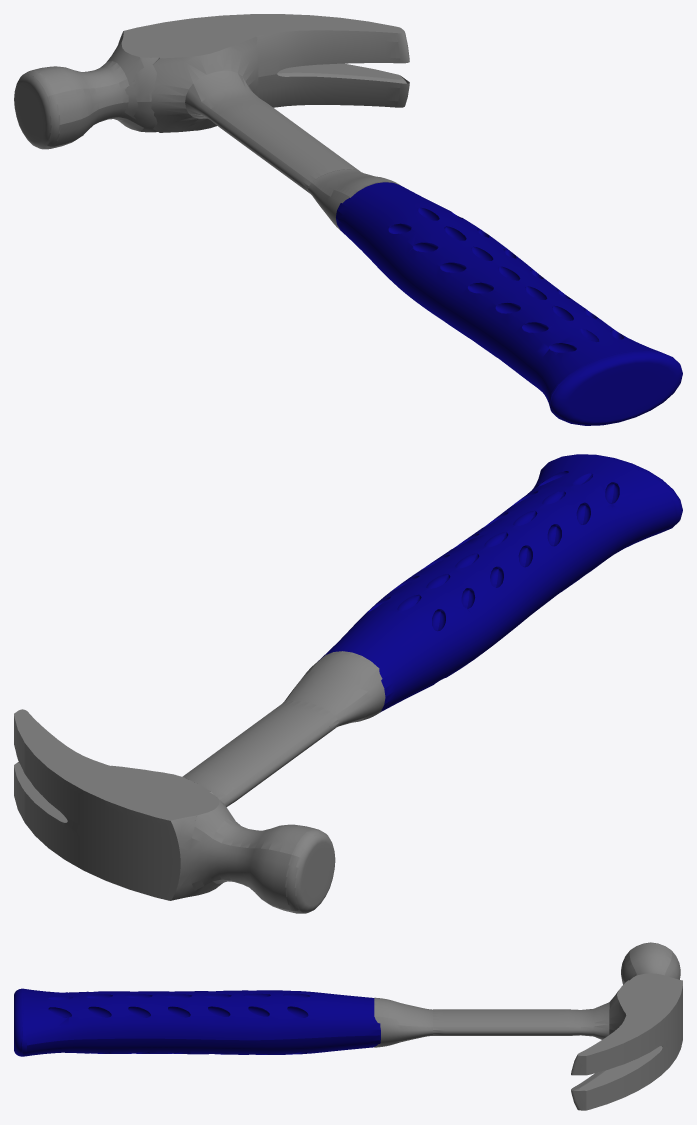
The model's file is Tool2.fbx.
3 views of the same model, one above another, from view 1: azimuth 30°, elevation 25°; view 2: azimuth 150°, elevation 25°; view 3: azimuth 270°, elevation 25° (orthographic). The views are drawn at different scales.
Visible parts, largest first — view 1: Cylinder11, Chamfer128; view 2: Cylinder11, Chamfer128; view 3: Chamfer128, Cylinder11.
Part boxes in pixels (box(x1,y1,x2,y2)): Cylinder11: box(14, 14, 409, 230); Chamfer128: box(336, 182, 682, 425); Cylinder11: box(14, 651, 385, 913); Chamfer128: box(318, 454, 682, 712); Chamfer128: box(14, 988, 380, 1056); Cylinder11: box(374, 942, 682, 1110).
Bounding box in the file's own units: 320 × 70.27 × 775.
